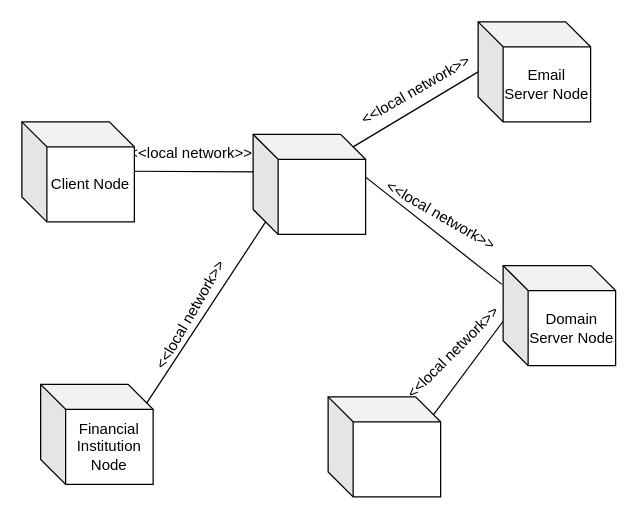
Image size: 638x519. Some labels were removed from this diagram. Here are the shapes that lost their labels. From the top down, the centre of each, then its label:
At point 309,183: "Application Server Node".
At point 384,446: "Database Server Node".
